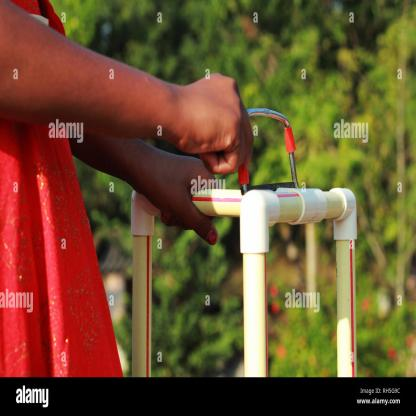PVC: (191, 188, 358, 378), (130, 187, 160, 378)
